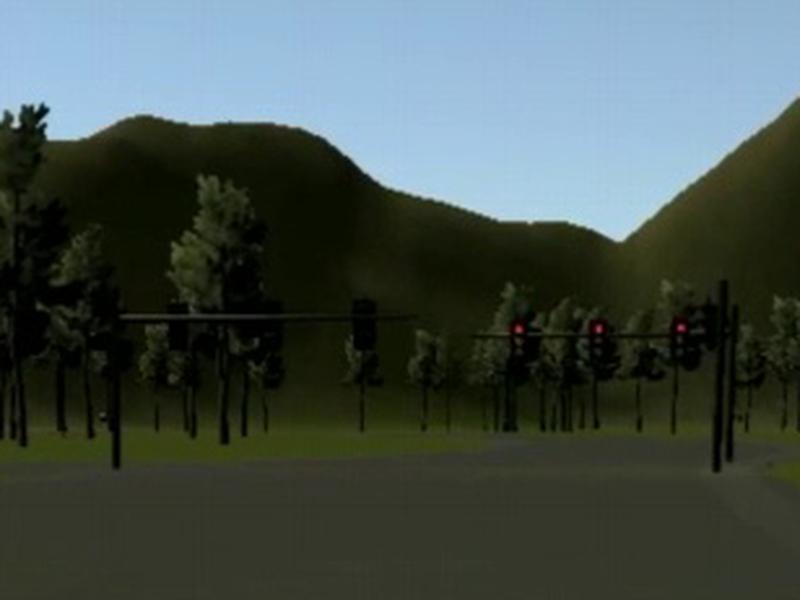Red: (670, 319, 691, 364), (589, 319, 609, 363), (510, 322, 529, 362)
